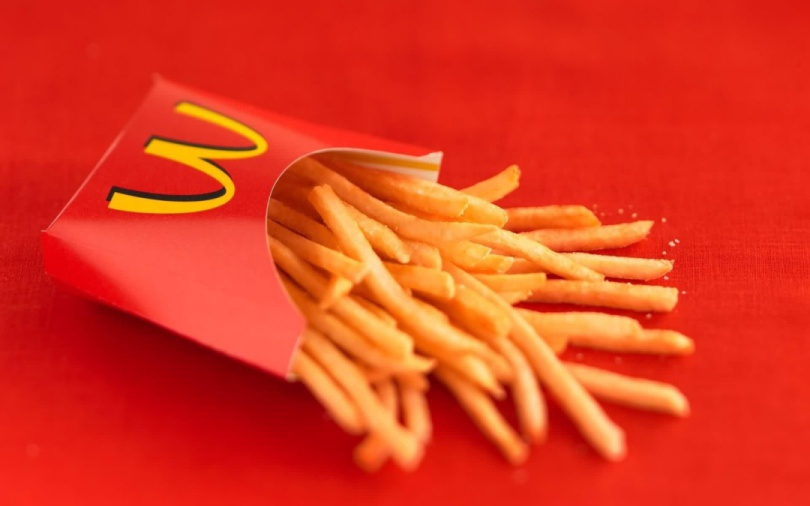mcdonalds: (107, 95, 273, 222)
